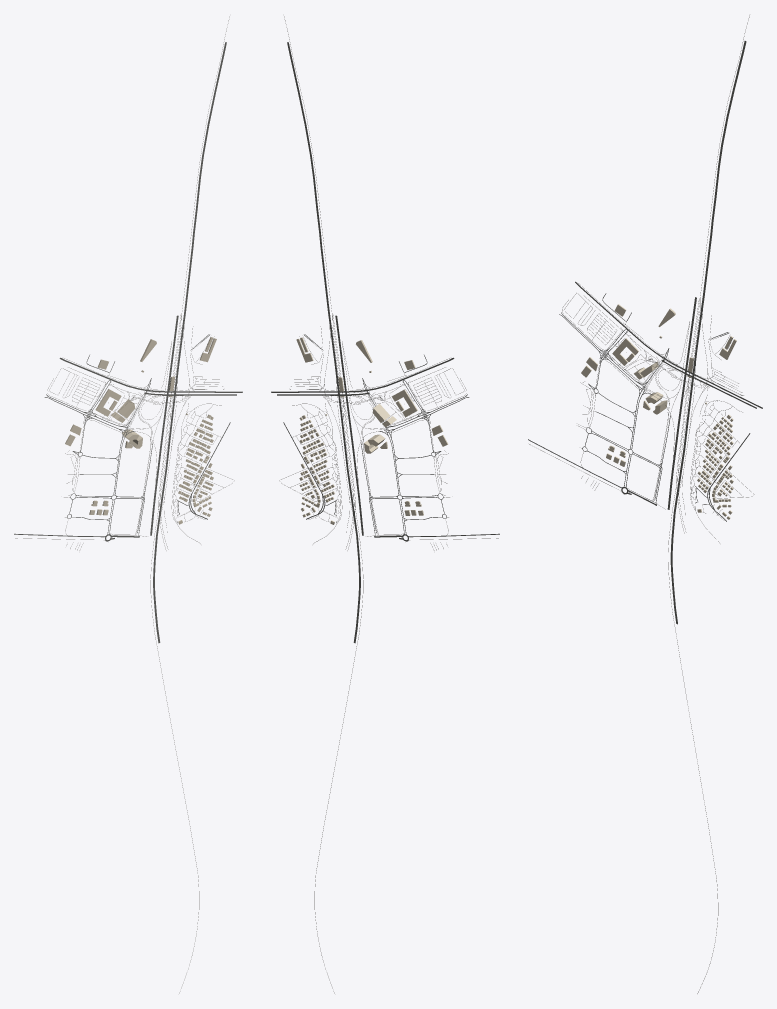
File: historic-palestine-06_25_3475_3198.glb
3 views of the same model, side by side, from view 1: azimuth 30°, elevation 25°; view 2: azimuth 150°, elevation 25°; view 3: azimuth 330°, elevation 25° (orthographic). The views are drawn at different scales.
Visible parts, largest first — view 1: Road איילון צפון, Road .016; view 2: Road איילון צפון, Road .016; view 3: Road איילון צפון, Road .016.
Boxes of the visible parts, left/top/right/bottom form: Road איילון צפון: left=153, top=42, right=226, bottom=643; Road .016: left=150, top=16, right=229, bottom=993; Road איילון צפון: left=287, top=42, right=360, bottom=643; Road .016: left=284, top=16, right=363, bottom=993; Road איילון צפון: left=670, top=41, right=746, bottom=624; Road .016: left=668, top=15, right=749, bottom=993.
Bounding box in the file's own units: 1473 × 5954 × 78.7.
